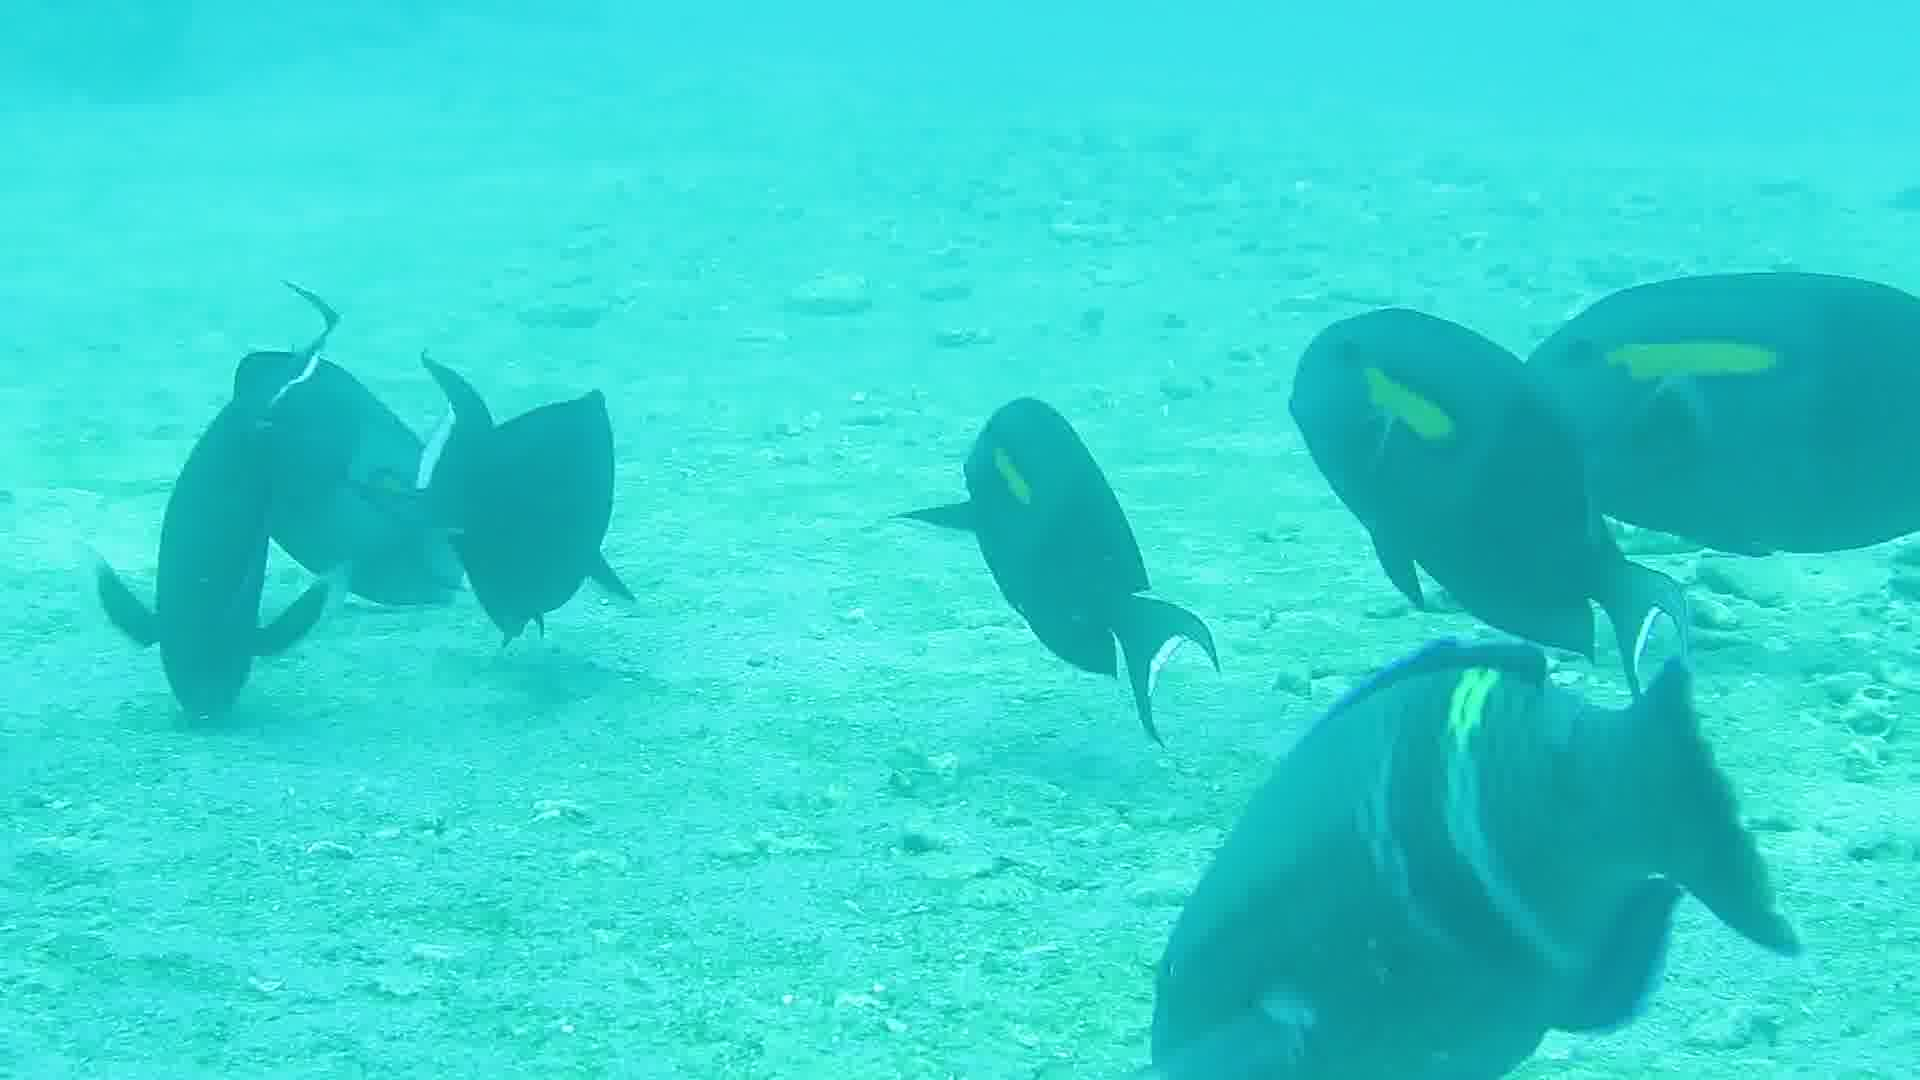Acanthurus olivaceus: (1092, 647, 1756, 1080), (1516, 190, 1920, 535), (1270, 253, 1557, 659), (120, 338, 295, 756), (968, 322, 1143, 738), (444, 297, 618, 713)
